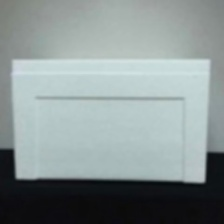foam_box: (5, 51, 217, 188)
